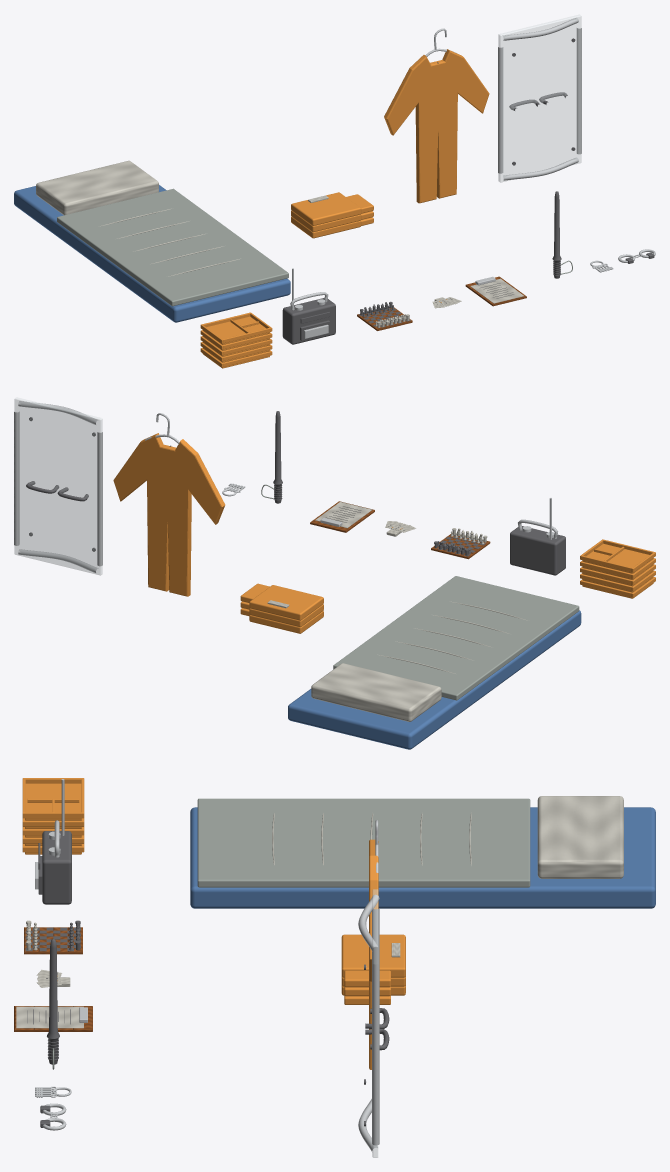
Rendered from staff-0.glb.
3 renders of one model, top to bottom at view 1: azimuth 30°, elevation 25°; view 2: azimuth 150°, elevation 25°; view 3: azimuth 270°, elevation 25°, orthographic. The views are drawn at different scales.
Visible parts, largest first — view 1: 000-inmate-bunk-bedding/1, 003-riot-shield/0, 002-jumpsuit-on-hanger/0, 000-inmate-bunk-bedding/0, 000-inmate-bunk-bedding/2, 011-meal-tray-stack/0, 001-uniform-pile/0, 003-riot-shield/1, 004-inmate-tabletop-radio/0, 007-clipboard/1, 000-inmate-bunk-bedding/3, 008-guard-baton/0 (+2 smaller); view 2: 000-inmate-bunk-bedding/1, 003-riot-shield/0, 002-jumpsuit-on-hanger/0, 000-inmate-bunk-bedding/0, 000-inmate-bunk-bedding/2, 011-meal-tray-stack/0, 001-uniform-pile/0, 003-riot-shield/1, 004-inmate-tabletop-radio/0, 007-clipboard/1, 008-guard-baton/0, 000-inmate-bunk-bedding/3 (+1 smaller); view 3: 000-inmate-bunk-bedding/1, 000-inmate-bunk-bedding/0, 000-inmate-bunk-bedding/2, 011-meal-tray-stack/0, 001-uniform-pile/0, 003-riot-shield/1, 004-inmate-tabletop-radio/0, 007-clipboard/1, 008-guard-baton/0, 005-tiny-chess-set/0, 002-jumpsuit-on-hanger/0, 005-tiny-chess-set/1.
Part boxes in pixels (bbox=[...]): 000-inmate-bunk-bedding/1: bbox=[57, 188, 288, 306]; 003-riot-shield/0: bbox=[498, 14, 581, 182]; 002-jumpsuit-on-hanger/0: bbox=[384, 49, 489, 203]; 000-inmate-bunk-bedding/0: bbox=[14, 185, 290, 322]; 000-inmate-bunk-bedding/2: bbox=[36, 160, 158, 215]; 011-meal-tray-stack/0: bbox=[200, 312, 272, 368]; 001-uniform-pile/0: bbox=[291, 192, 373, 238]; 003-riot-shield/1: bbox=[498, 18, 581, 180]; 004-inmate-tabletop-radio/0: bbox=[282, 298, 335, 344]; 007-clipboard/1: bbox=[470, 278, 523, 303]; 000-inmate-bunk-bedding/3: bbox=[98, 208, 240, 276]; 008-guard-baton/0: bbox=[552, 191, 561, 278]; 000-inmate-bunk-bedding/1: bbox=[333, 576, 579, 700]; 003-riot-shield/0: bbox=[14, 397, 102, 575]; 002-jumpsuit-on-hanger/0: bbox=[113, 433, 225, 596]; 000-inmate-bunk-bedding/0: bbox=[288, 610, 581, 749]; 000-inmate-bunk-bedding/2: bbox=[311, 663, 441, 721]; 011-meal-tray-stack/0: bbox=[580, 539, 655, 598]; 001-uniform-pile/0: bbox=[240, 583, 323, 633]; 003-riot-shield/1: bbox=[14, 401, 102, 573]; 004-inmate-tabletop-radio/0: bbox=[510, 526, 565, 575]; 007-clipboard/1: bbox=[315, 502, 371, 528]; 008-guard-baton/0: bbox=[273, 411, 282, 503]; 000-inmate-bunk-bedding/3: bbox=[377, 601, 527, 673]; 000-inmate-bunk-bedding/1: bbox=[197, 798, 530, 887]; 000-inmate-bunk-bedding/0: bbox=[190, 807, 655, 908]; 000-inmate-bunk-bedding/2: bbox=[537, 796, 623, 878]; 011-meal-tray-stack/0: bbox=[22, 778, 84, 854]; 001-uniform-pile/0: bbox=[341, 934, 405, 1004]; 003-riot-shield/1: bbox=[358, 894, 379, 1152]; 004-inmate-tabletop-radio/0: bbox=[38, 831, 71, 904]; 007-clipboard/1: bbox=[16, 1006, 83, 1028]; 008-guard-baton/0: bbox=[47, 939, 59, 1064]; 005-tiny-chess-set/0: bbox=[24, 927, 82, 954]; 002-jumpsuit-on-hanger/0: bbox=[369, 839, 378, 1069]; 005-tiny-chess-set/1: bbox=[25, 920, 80, 951].
Size of the model in its own units: 3.25 by 1.07 by 2.6.
8 materials, 2 textured.
